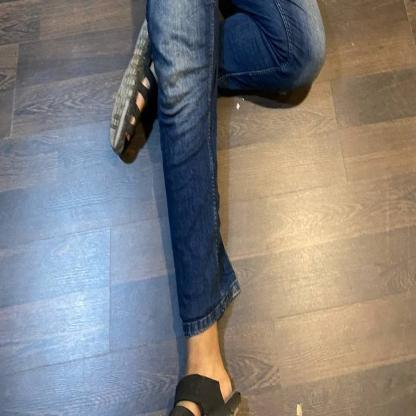leg: (112, 0, 242, 416)
